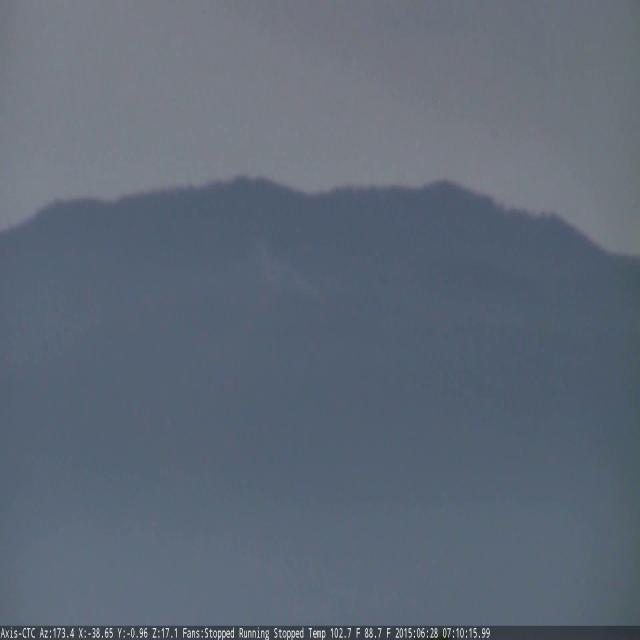smoke: (234, 221, 321, 302)
